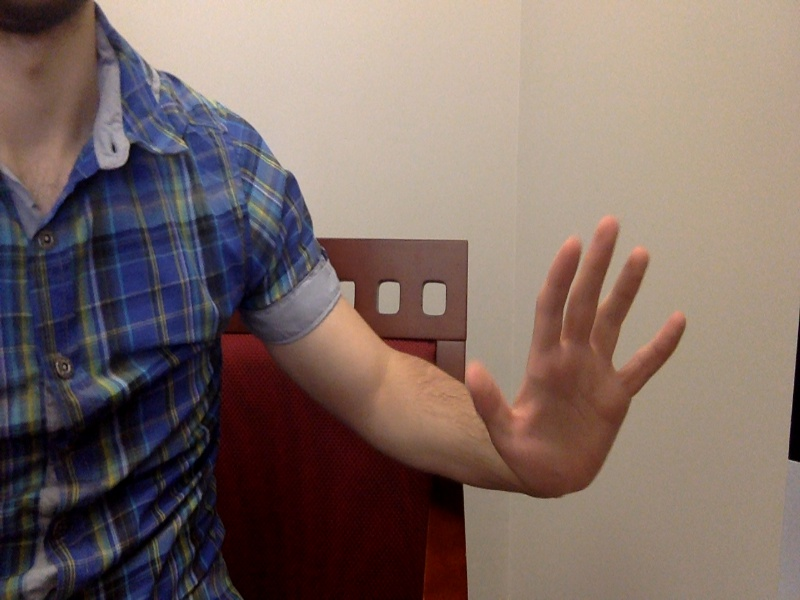5-hand: (472, 217, 690, 505)
